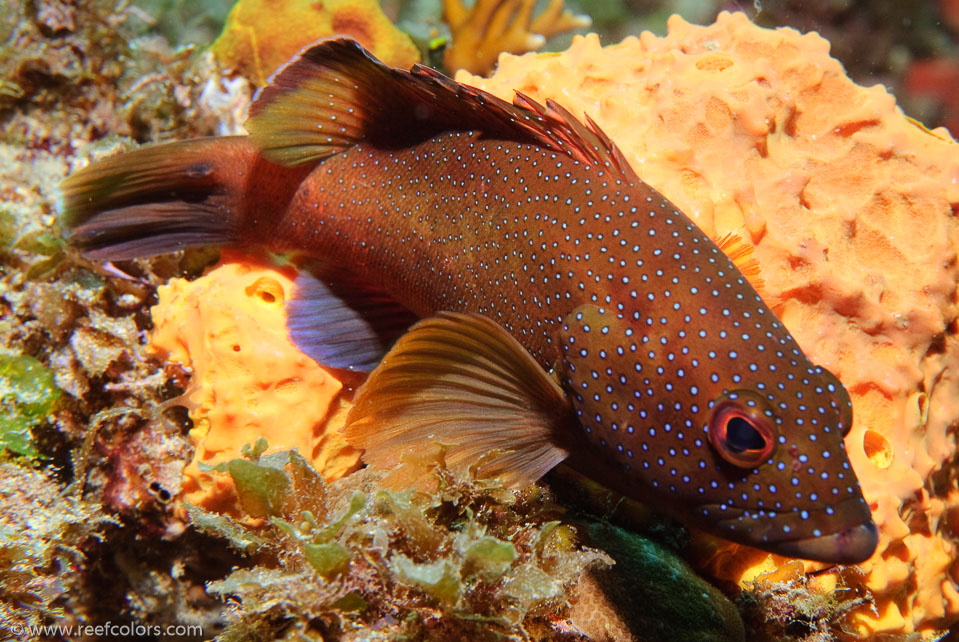Cephalopholis_fulvaw: (78, 31, 894, 574)
